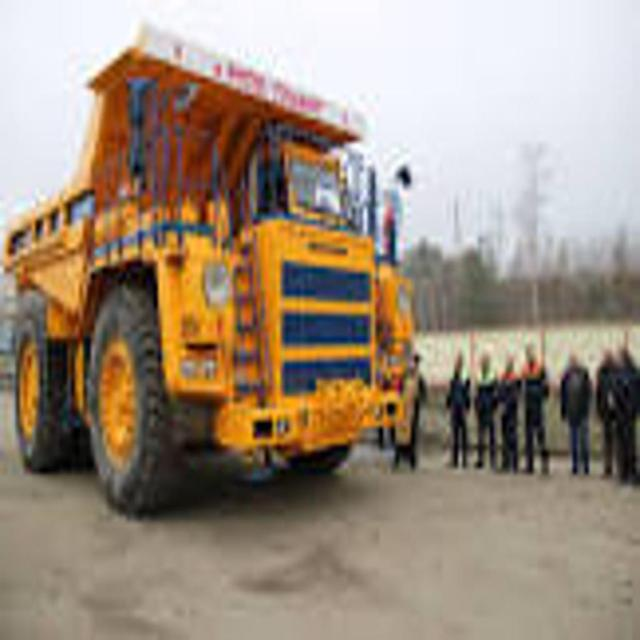dump_truck: (11, 14, 418, 514)
